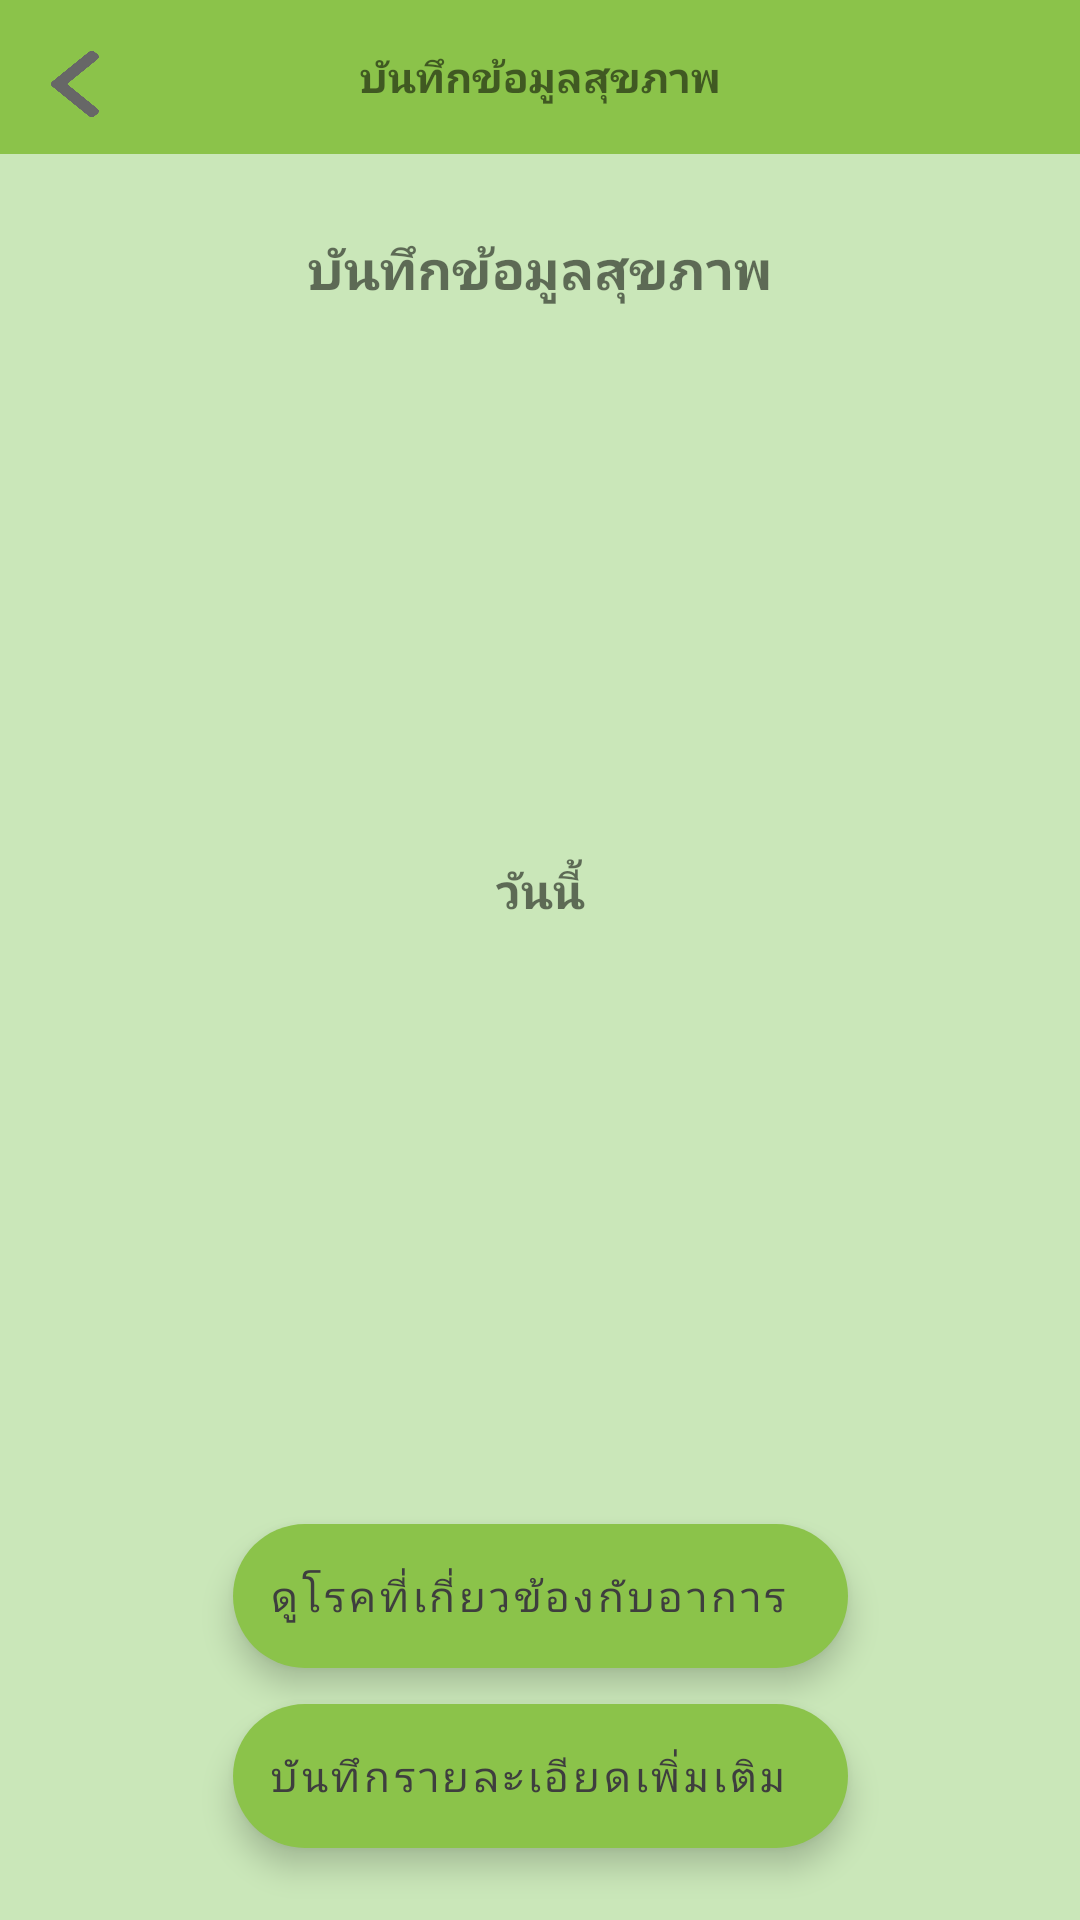

Icons on this 1080*1920 Android screen, each with the point to tap as (x=x, y=y):
left arrow: (x=75, y=84)
